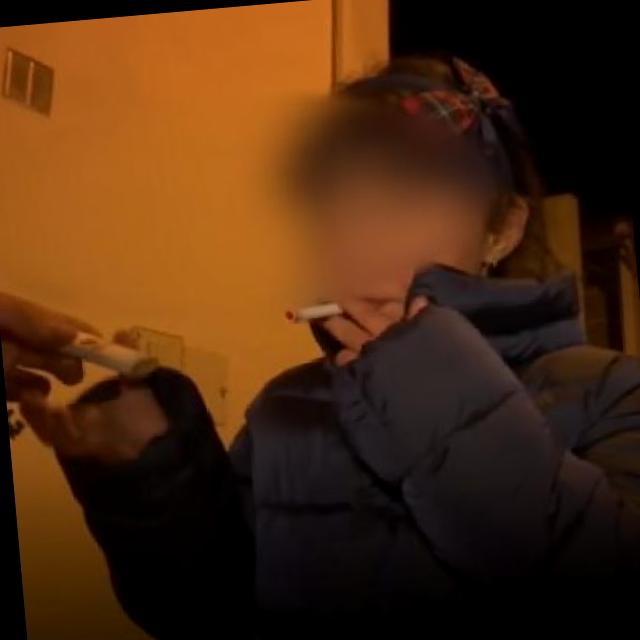smoke: (280, 280, 382, 356)
